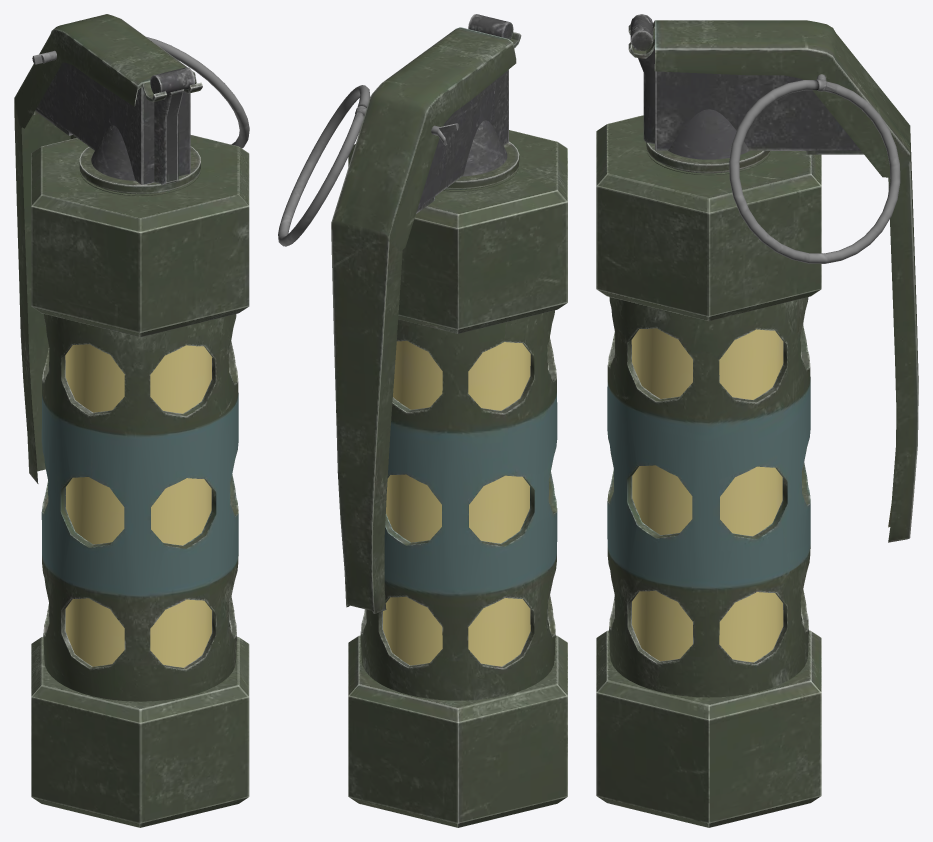
File: ge_flash.gltf
The picture shows the model from 3 angles, left to right: view 1: azimuth 30°, elevation 25°; view 2: azimuth 150°, elevation 25°; view 3: azimuth 270°, elevation 25°; orthographic projection. The views are drawn at different scales.
Visible parts, largest first — view 1: Flashbang, Pin; view 2: Flashbang, Pin; view 3: Flashbang, Pin.
Part boxes in pixels (x1,y1,x2,y2): Flashbang: (14,14,249,827); Pin: (32,37,249,148); Flashbang: (331,14,567,827); Pin: (278,85,458,246); Flashbang: (596,14,918,827); Pin: (729,74,900,263).
Bounding box in the file's own units: 0.0418 × 0.1216 × 0.047.
Materials: 1 (1 with a texture image).
